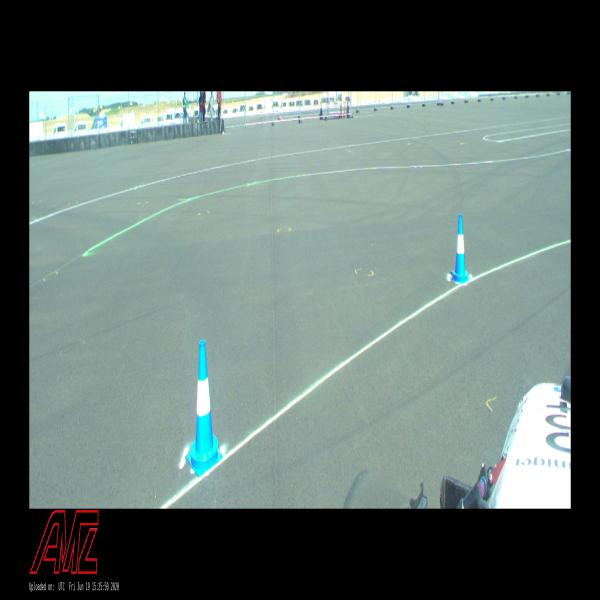blue_cone: (186, 340, 223, 477), (451, 214, 471, 284)
